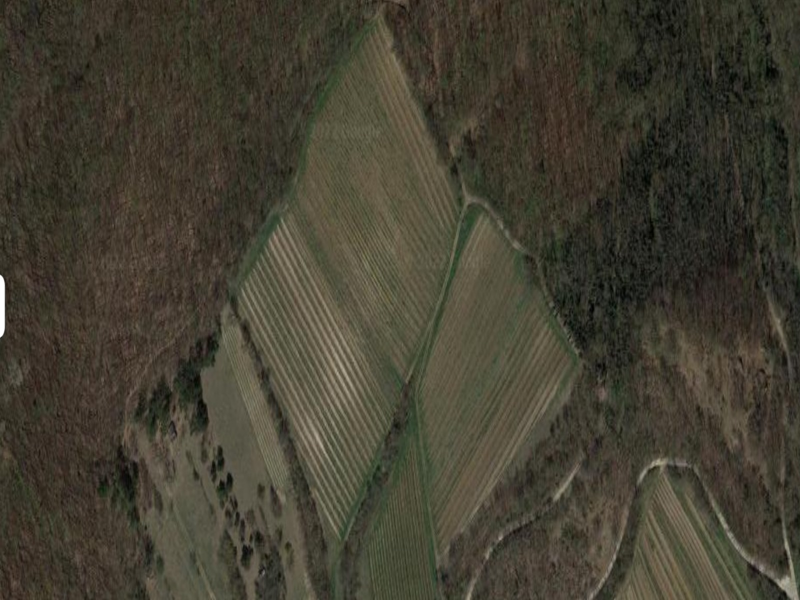field: (418, 211, 575, 555)
